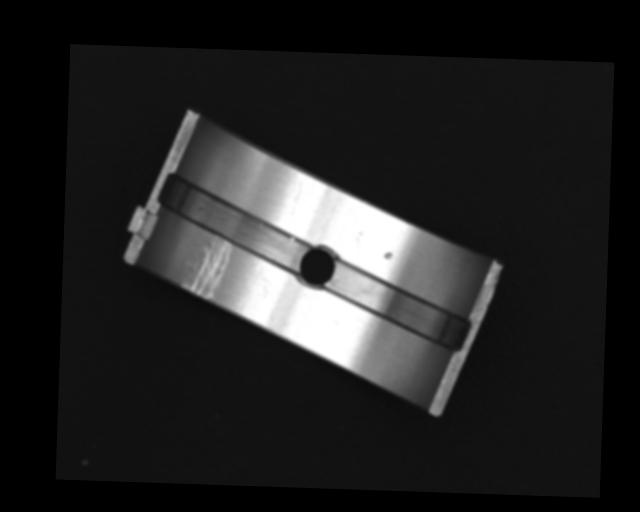bruise: (383, 250, 394, 261)
gap: (159, 173, 312, 270), (324, 264, 470, 350)
hole: (298, 245, 336, 288)
nick: (290, 176, 303, 214)
scratch: (182, 235, 232, 300)
